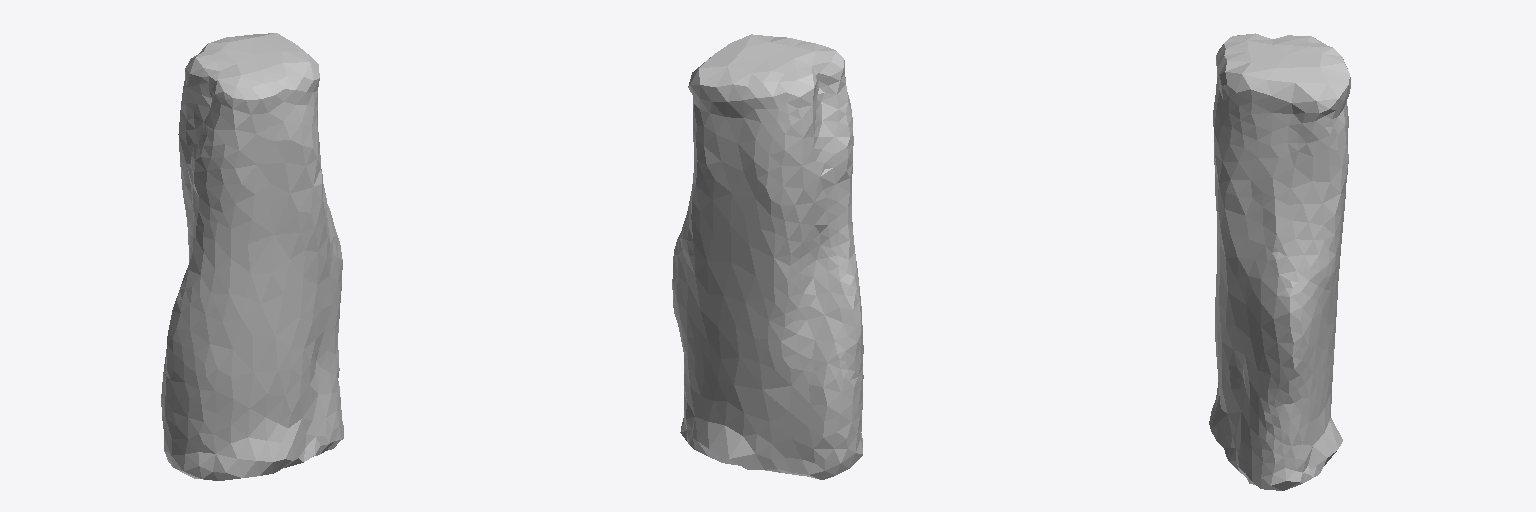
File: roca.obj
3 renders of one model, left to right at view 1: azimuth 30°, elevation 25°; view 2: azimuth 150°, elevation 25°; view 3: azimuth 270°, elevation 25°, orthographic.
Visible parts, largest first — view 1: RockPillars_4; view 2: RockPillars_4; view 3: RockPillars_4.
Boxes of the visible parts, x1,y1,x2,y2 form: RockPillars_4: [161, 33, 343, 480]; RockPillars_4: [672, 34, 863, 479]; RockPillars_4: [1209, 33, 1350, 490].
Size of the model in its own units: 2.24 by 4.8 by 1.54.